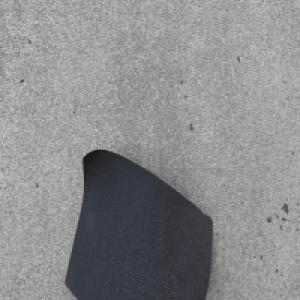PaintChip: (63, 147, 213, 300)
